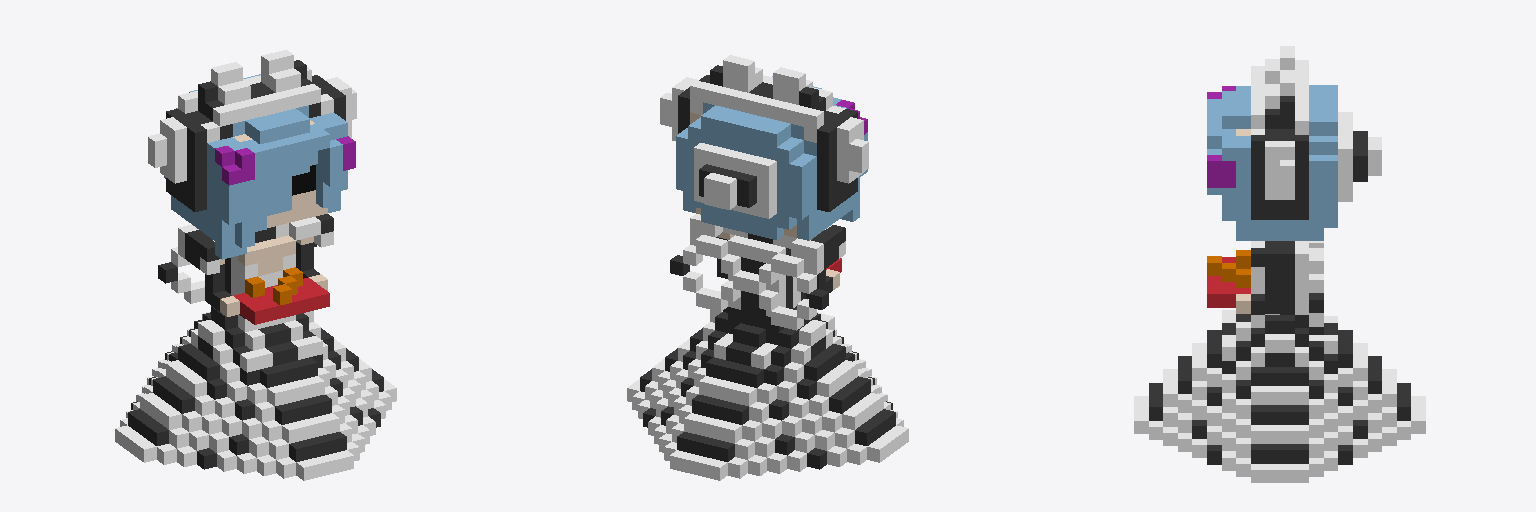
3 renders of one model, left to right at view 1: azimuth 30°, elevation 25°; view 2: azimuth 150°, elevation 25°; view 3: azimuth 270°, elevation 25°, orthographic.
Size of the model in its own units: 20 by 29 by 20.
Materials: 1 (1 with a texture image).